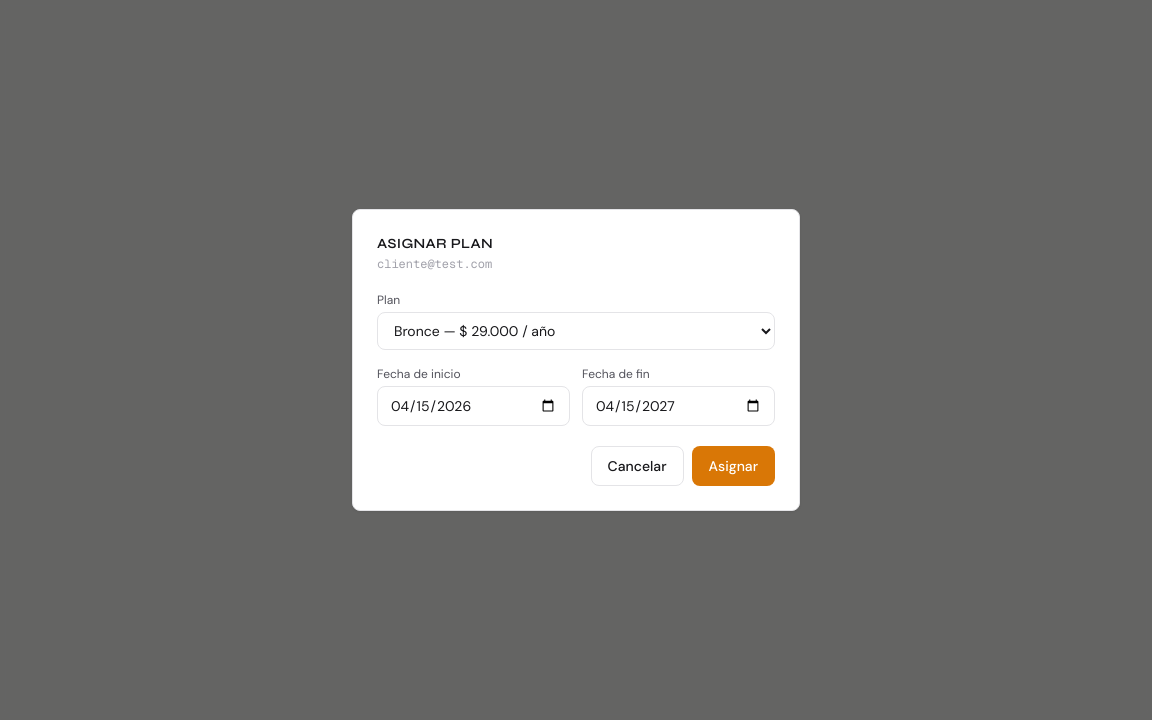
it: AssignSubscriptionModal › shows validation error when end date is before start date
The width and height of the screenshot is (1152, 720).
Type "2027-01-01" into the date field showing "Fecha de inicio" at (474,406), box [377,386,570,426]
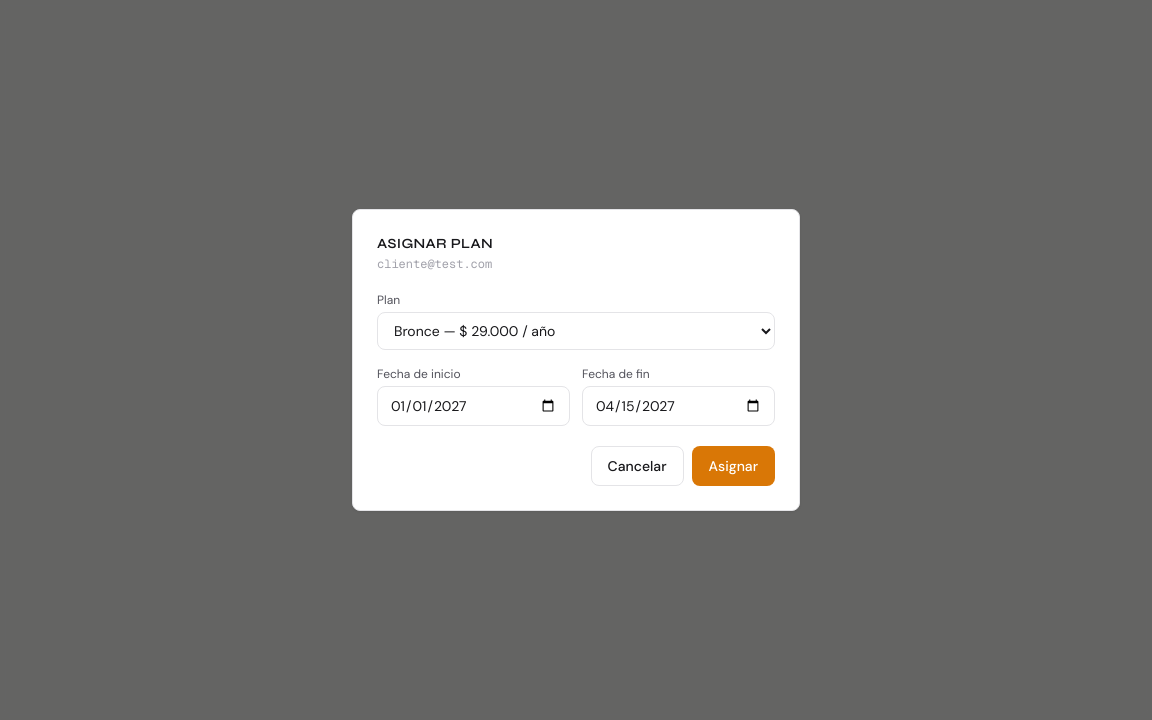
Type "2026-01-01" into the date field showing "Fecha de fin" at (678,406), box [582,386,775,426]
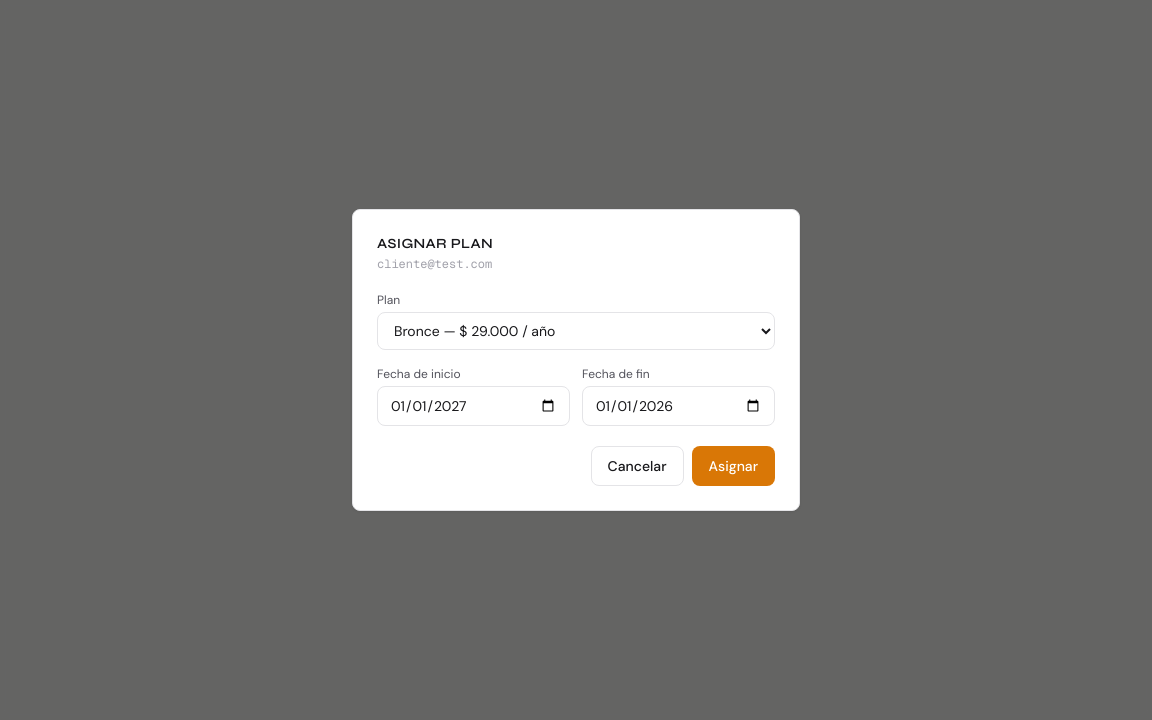
Click the button "Asignar" at (733,466), box [692,446,775,486]
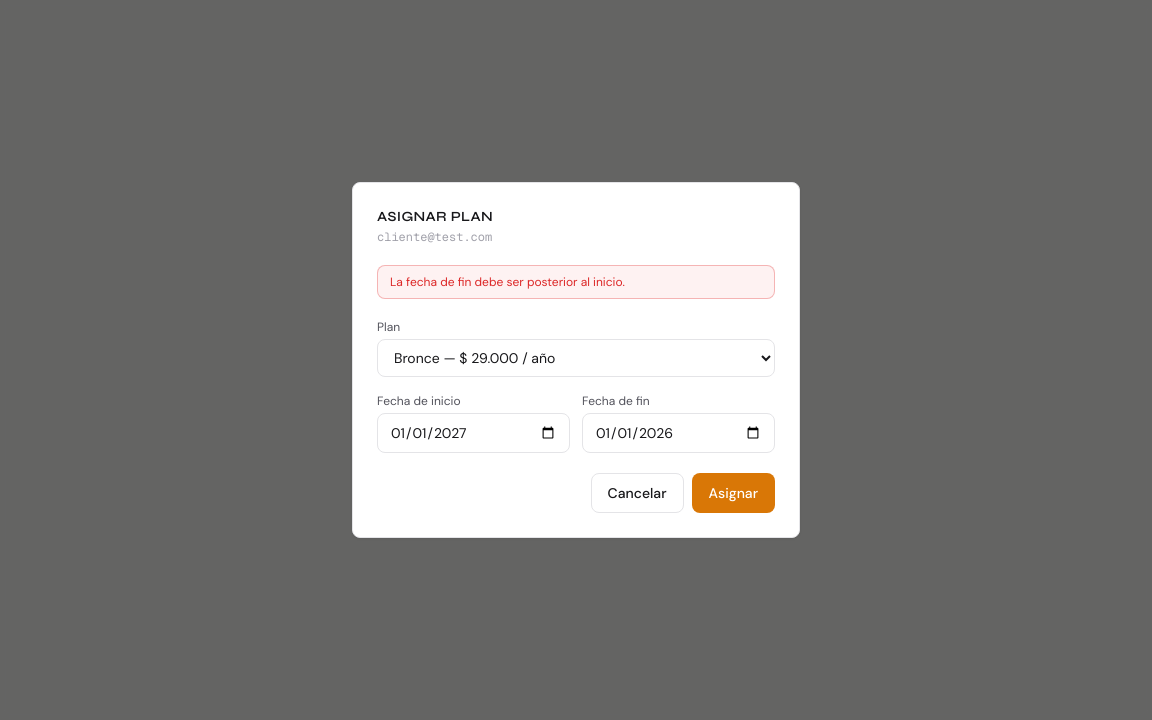
Now the message shows "posterior", box [390,274,625,290]
